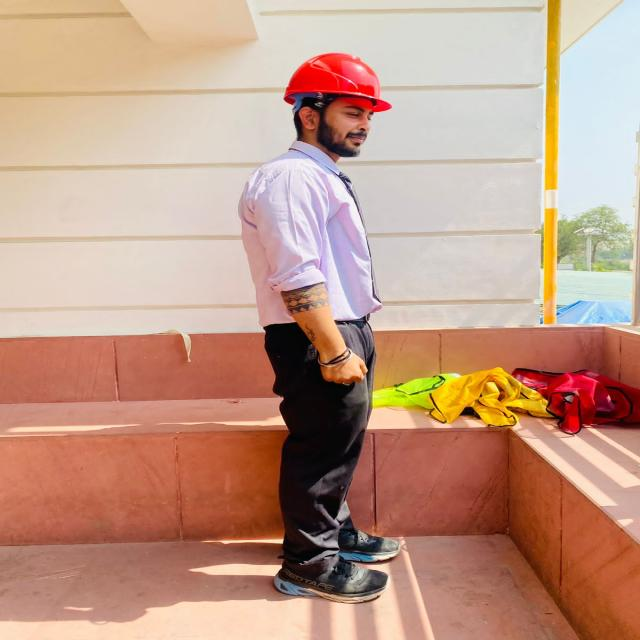no jacket: (244, 53, 393, 598)
